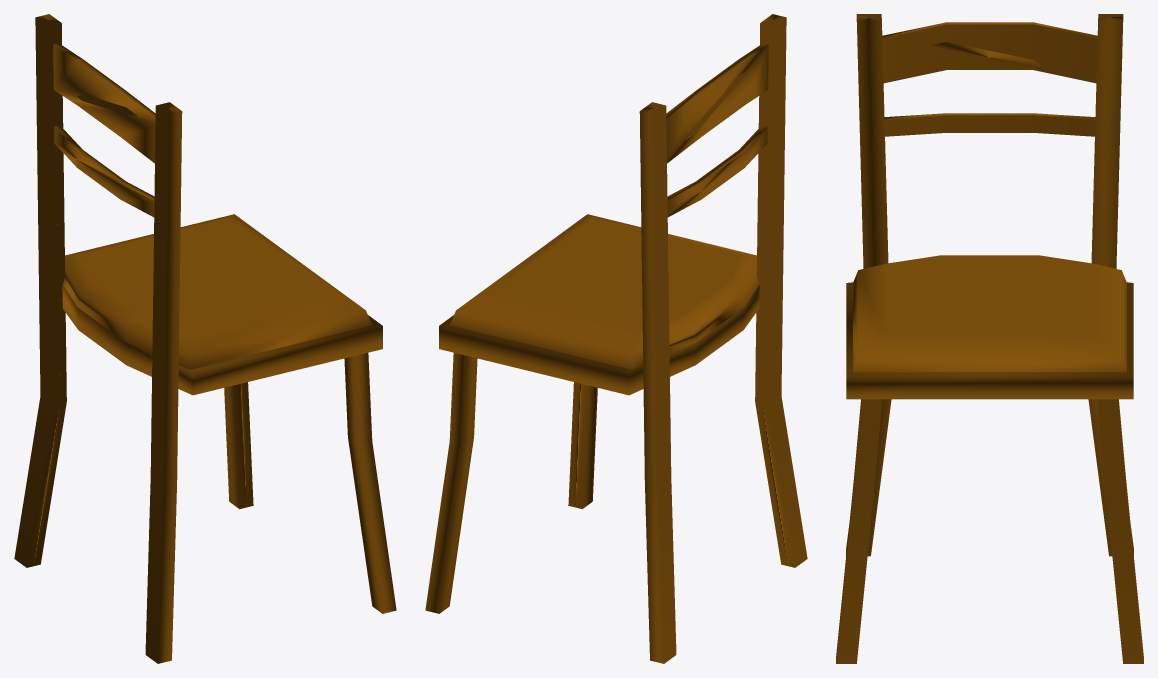
The model's file is zidle.obj.
3 views of the same model, side by side, from view 1: azimuth 30°, elevation 25°; view 2: azimuth 150°, elevation 25°; view 3: azimuth 270°, elevation 25° (orthographic).
Parts seen in each view (by area): view 1: Plane01; view 2: Plane01; view 3: Plane01.
Part boxes in pixels (<box>): Plane01: <box>14,14,396,663</box>; Plane01: <box>425,14,807,663</box>; Plane01: <box>836,14,1143,663</box>.
Size of the model in its own units: 406 by 899 by 461.
